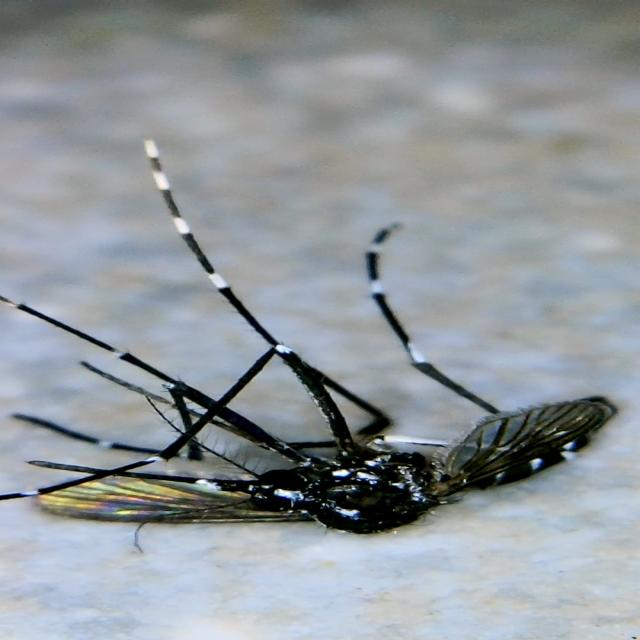albopictus: (0, 124, 632, 584)
